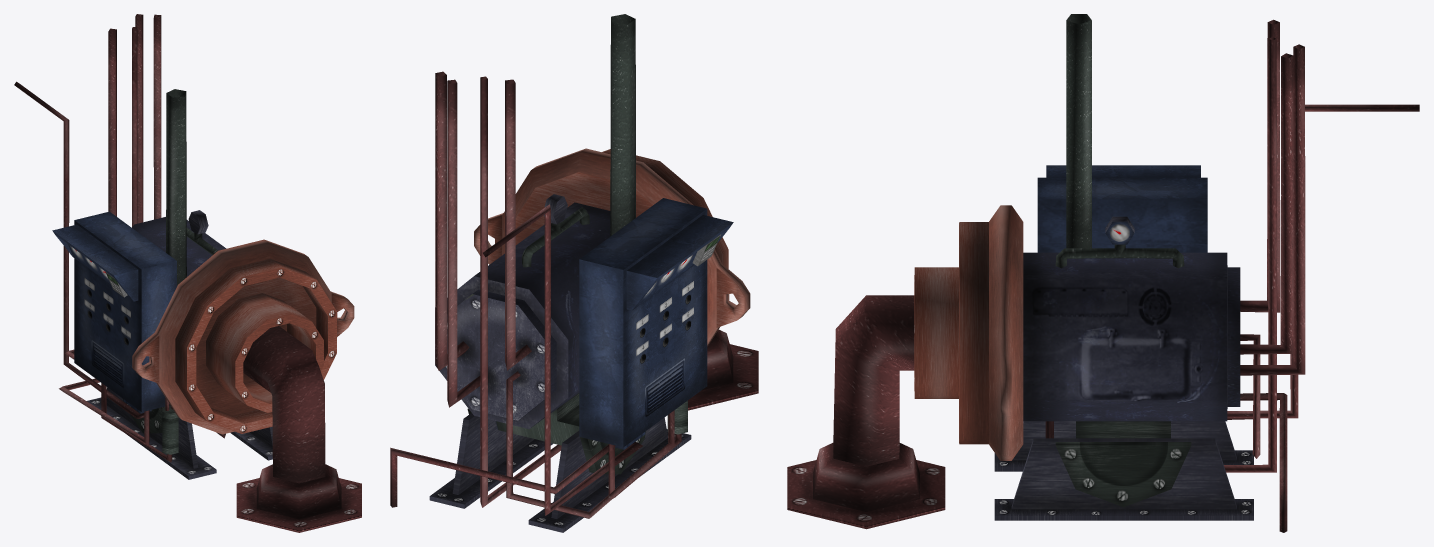
Rendered from Furnace.fbx.
3 views of the same model, side by side, from view 1: azimuth 30°, elevation 25°; view 2: azimuth 150°, elevation 25°; view 3: azimuth 270°, elevation 25° (orthographic). The views are drawn at different scales.
Parts seen in each view (by area): view 1: Object_4.001; view 2: Object_4.001; view 3: Object_4.001.
Boxes of the visible parts, x1,y1,x2,y2 form: Object_4.001: (14,14,361,532); Object_4.001: (390,14,758,532); Object_4.001: (787,14,1419,532).
Size of the model in its own units: 1819 by 2814 by 3553.
